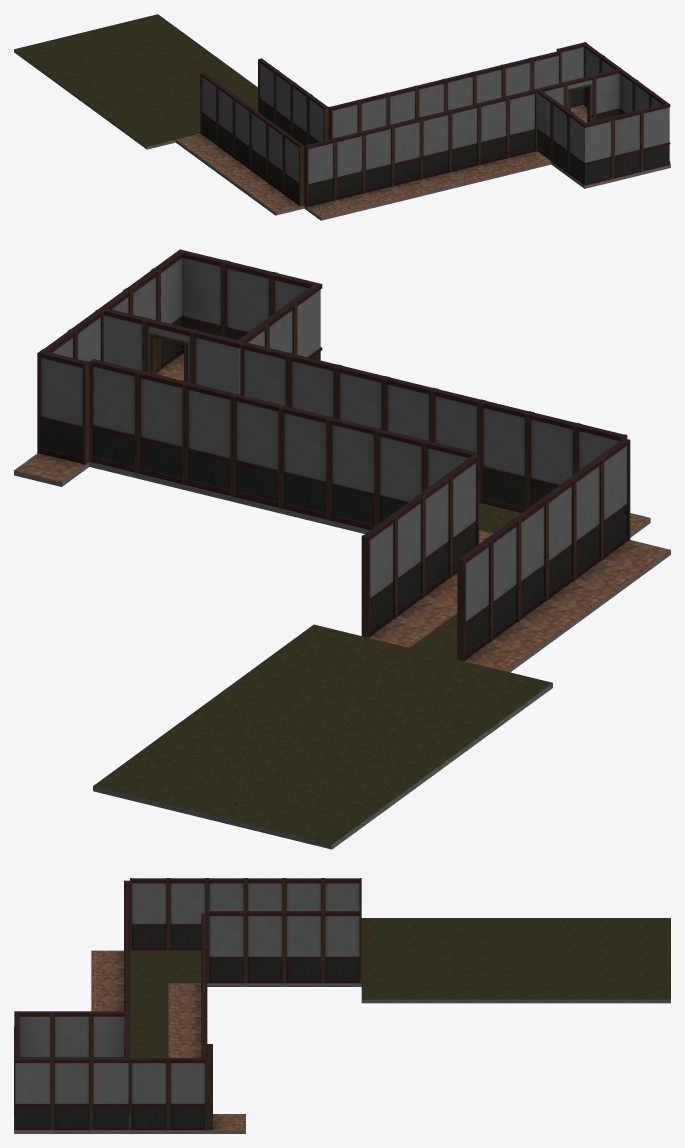
File: Horror_Game_Starter_Kit.fbx
3 renders of one model, top to bottom at view 1: azimuth 30°, elevation 25°; view 2: azimuth 150°, elevation 25°; view 3: azimuth 270°, elevation 25°, orthographic. The views are drawn at different scales.
Visible parts, largest first — view 1: Wal_Corner_005__3_, Wall_02_037__22_, Wall_02_037__21_, Wall_02_037__15_, Wall_02_037__20_, Wall_02_037__16_, Wall_02_037__19_, Wall_02_037__17_, Wall_02_037__18_, Wal_Corner_005__2_, Wall_02_037__3_, Wall_02_037__23_ (+58 smaller); view 2: Wall_02_037__6_, Wal_Corner_005__2_, Wall_02_037__7_, Wall_02_037__12_, Wall_02_037__11_, Wall_02_037__9_, Wall_02_037__8_, Wall_02_037__10_, Wall_02_037__20_, Wall_02_037__28_, Wall_02_037__31_, Wall_02_037__23_ (+65 smaller); view 3: Wal_Corner_005__2_, Wal_Corner_005__1_, Wall_02_037__30_, Wall_02_037__5_, Wall_02_037__1_, Wall_02_037__29_, Wall_02_037__4_, Wall_02_037__32_, Wall_02_037__31_, Wall_02_037__23_, Wall_02_037__24_, Wall_02_037__2_ (+65 smaller).
Part boxes in pixels (left/top/right/bottom): Wal_Corner_005__3_: left=568, top=112, right=613, bottom=188; Wall_02_037__22_: left=304, top=138, right=349, bottom=220; Wall_02_037__21_: left=333, top=131, right=378, bottom=213; Wall_02_037__15_: left=506, top=89, right=551, bottom=171; Wall_02_037__20_: left=362, top=124, right=407, bottom=206; Wall_02_037__16_: left=477, top=96, right=522, bottom=178; Wall_02_037__19_: left=391, top=117, right=436, bottom=199; Wall_02_037__17_: left=448, top=103, right=493, bottom=185; Wall_02_037__18_: left=420, top=110, right=464, bottom=192; Wal_Corner_005__2_: left=640, top=92, right=670, bottom=174; Wall_02_037__3_: left=611, top=110, right=642, bottom=181; Wall_02_037__23_: left=259, top=133, right=304, bottom=215; Wall_02_037__6_: left=14, top=350, right=89, bottom=486; Wal_Corner_005__2_: left=152, top=249, right=226, bottom=376; Wall_02_037__7_: left=89, top=358, right=140, bottom=478; Wall_02_037__12_: left=328, top=417, right=380, bottom=533; Wall_02_037__11_: left=281, top=405, right=332, bottom=524; Wall_02_037__9_: left=185, top=382, right=236, bottom=501; Wall_02_037__8_: left=137, top=370, right=188, bottom=489; Wall_02_037__10_: left=233, top=393, right=284, bottom=513; Wall_02_037__20_: left=479, top=400, right=530, bottom=512; Wall_02_037__28_: left=457, top=539, right=532, bottom=672; Wall_02_037__31_: left=361, top=516, right=436, bottom=647; Wall_02_037__23_: left=596, top=438, right=670, bottom=574; Wal_Corner_005__2_: left=14, top=1044, right=52, bottom=1133; Wal_Corner_005__1_: left=91, top=1044, right=129, bottom=1133; Wall_02_037__30_: left=284, top=910, right=323, bottom=986; Wall_02_037__5_: left=168, top=1057, right=207, bottom=1133; Wall_02_037__1_: left=52, top=1057, right=91, bottom=1133; Wall_02_037__29_: left=246, top=910, right=284, bottom=986; Wall_02_037__4_: left=130, top=1057, right=168, bottom=1133; Wall_02_037__32_: left=207, top=910, right=245, bottom=986; Wall_02_037__31_: left=323, top=910, right=361, bottom=986; Wall_02_037__23_: left=130, top=878, right=168, bottom=950; Wall_02_037__24_: left=168, top=878, right=207, bottom=950; Wall_02_037__2_: left=52, top=1011, right=91, bottom=1057.
Bounding box in the file's own units: 2600 × 420 × 3400.
Materials: 4 (4 with a texture image).
